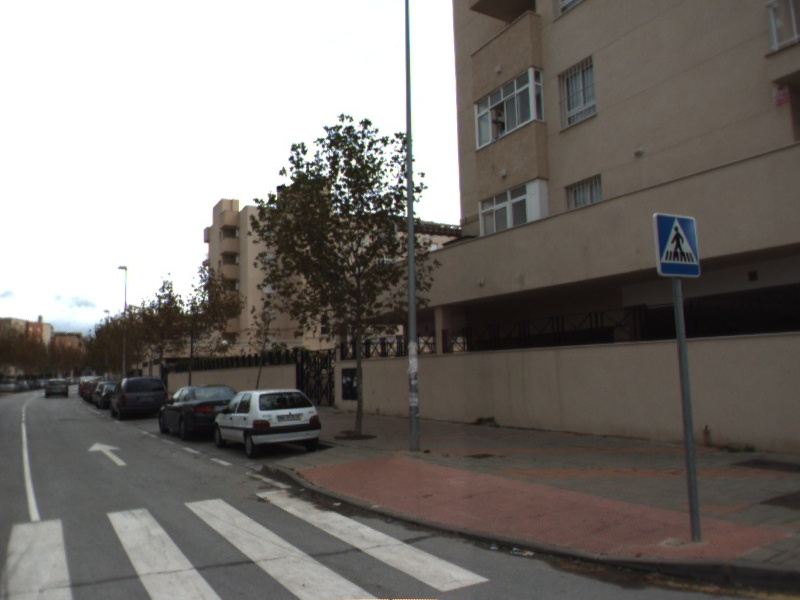STRAIGHT: (86, 440, 129, 468)
